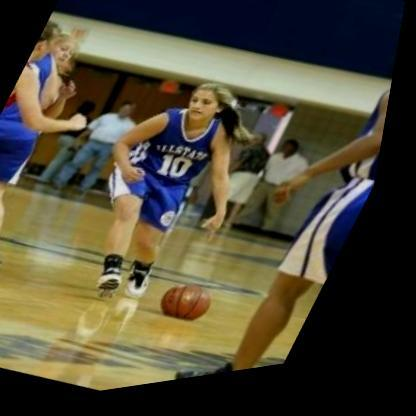basketball: (162, 277, 234, 340)
